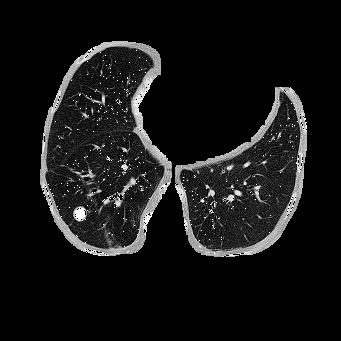PN: (72, 206, 88, 222)
